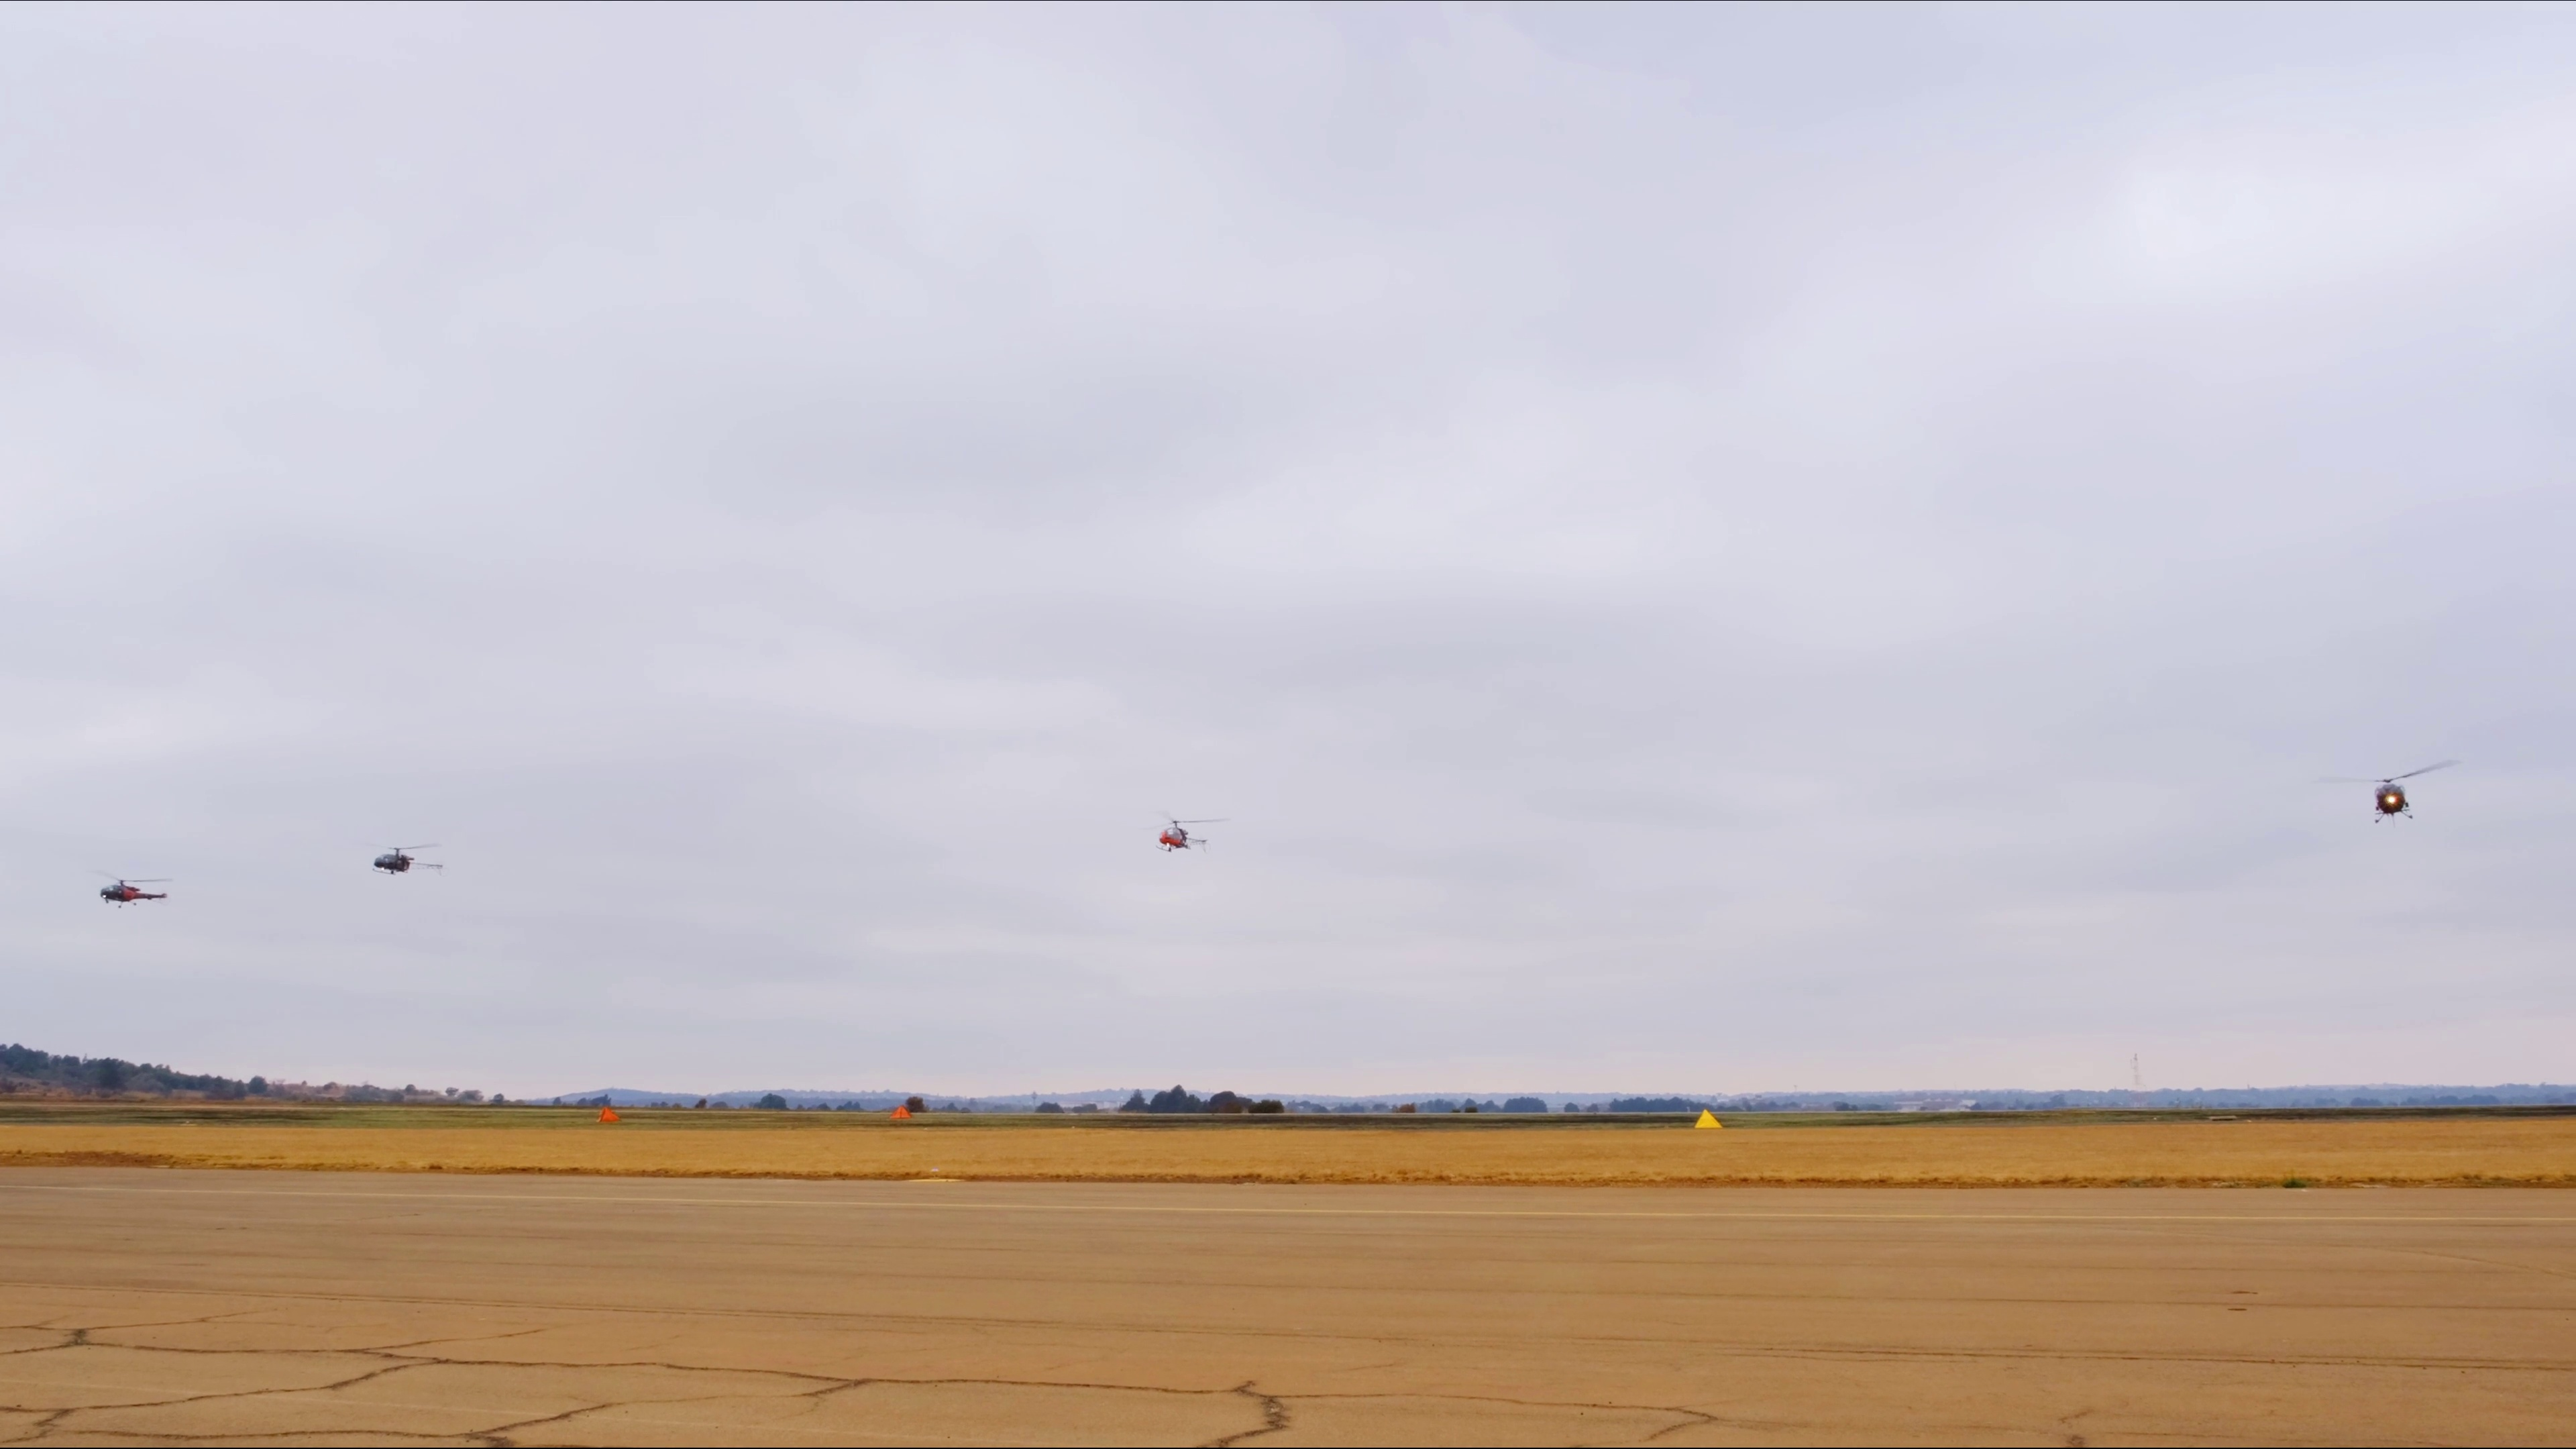heli: (2348, 759, 2450, 824), (1152, 816, 1228, 855), (96, 876, 172, 911), (370, 839, 444, 874)
